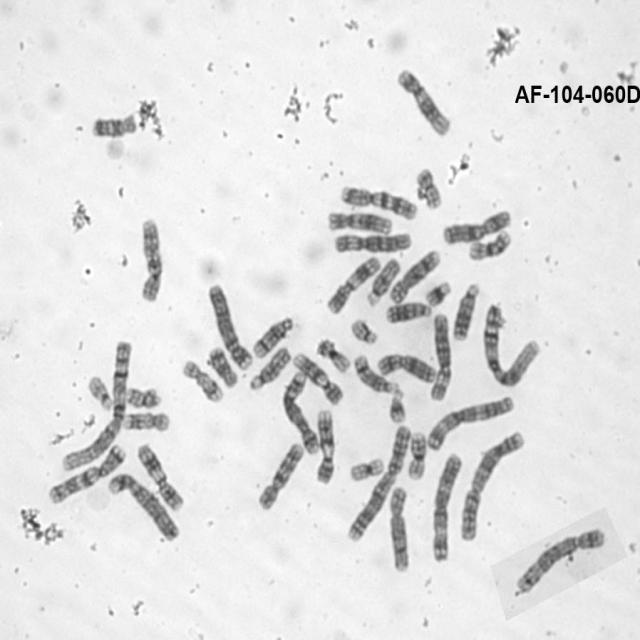A1: (61, 340, 132, 474), (482, 304, 544, 390)
A2: (346, 422, 413, 542), (458, 428, 527, 543)
A3: (426, 394, 516, 452), (430, 452, 466, 565)
B4: (106, 471, 183, 547), (207, 282, 253, 370)
B5: (515, 524, 606, 594), (282, 370, 321, 454)
C10: (256, 441, 305, 513), (136, 218, 166, 306)
C11: (323, 255, 383, 315), (137, 440, 185, 513)
C12: (394, 62, 453, 140), (324, 210, 394, 236)
C6: (428, 310, 453, 402), (334, 230, 414, 253)
C7: (47, 444, 125, 504), (339, 183, 419, 221)
C8: (389, 247, 441, 306), (388, 485, 411, 574)
C9: (292, 352, 346, 407), (314, 409, 336, 484)
D13: (450, 282, 482, 342), (382, 302, 433, 326)
D14: (352, 352, 401, 393), (250, 315, 294, 360)
D15: (245, 346, 292, 392), (366, 255, 402, 308)
E16: (466, 229, 513, 263), (406, 430, 427, 480)
E17: (180, 359, 224, 404), (120, 412, 172, 432)
E18: (208, 345, 240, 388), (92, 110, 138, 138)
F19: (314, 334, 352, 374), (348, 456, 386, 484)
F20: (417, 164, 443, 210), (126, 385, 162, 410)
G21: (424, 279, 454, 308), (388, 388, 408, 423)
G22: (85, 372, 114, 410), (348, 315, 378, 345)
X: (443, 209, 511, 245), (376, 350, 438, 385)
